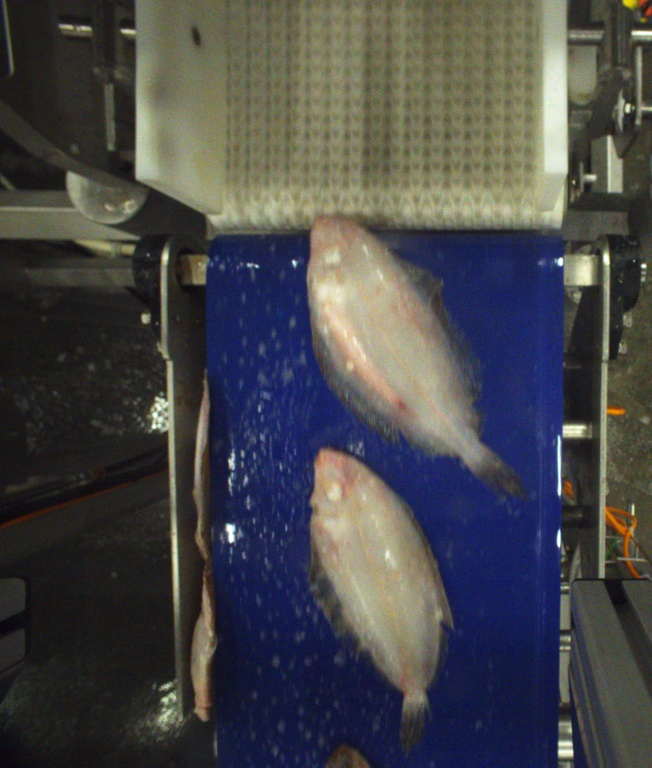WIT: (310, 449, 457, 750)
